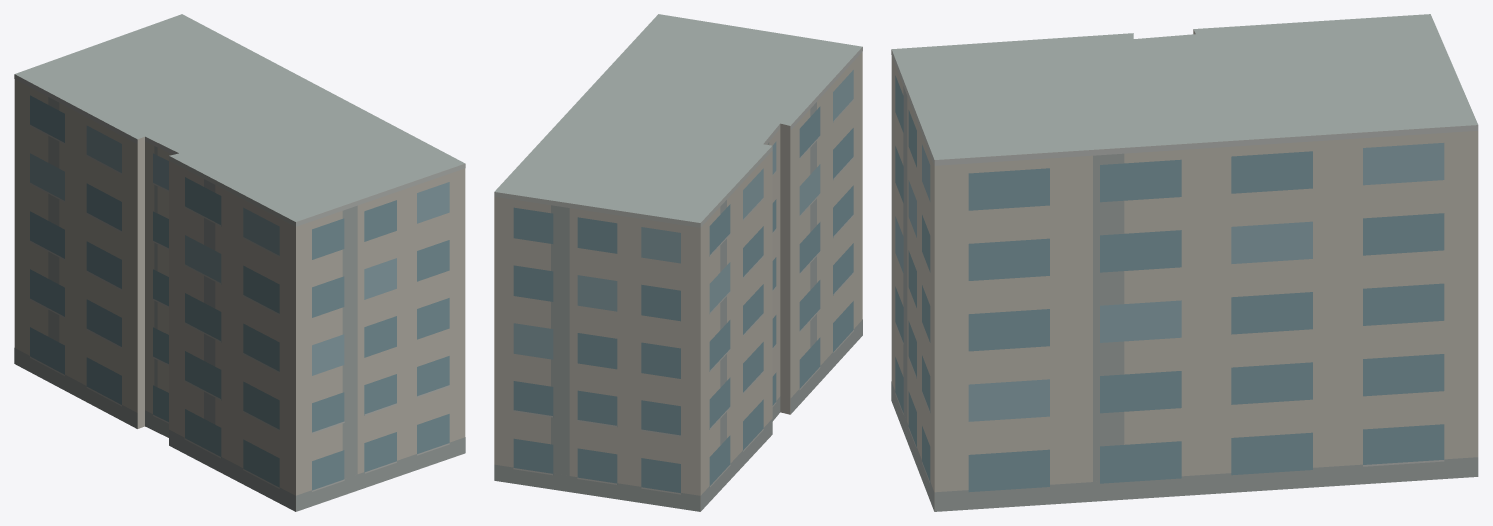
File: survey-upis-32570476.glb
The picture shows the model from 3 angles, left to right: view 1: azimuth 30°, elevation 25°; view 2: azimuth 150°, elevation 25°; view 3: azimuth 270°, elevation 25°; orthographic projection. The views are drawn at different scales.
Parts seen in each view (by area): view 1: survey-upis-32570476.tmp; view 2: survey-upis-32570476.tmp; view 3: survey-upis-32570476.tmp.
Part boxes in pixels (x1=…): survey-upis-32570476.tmp: x1=14, y1=14, x2=465, y2=511; survey-upis-32570476.tmp: x1=494, y1=14, x2=862, y2=511; survey-upis-32570476.tmp: x1=891, y1=14, x2=1478, y2=511.
Size of the model in its own units: 13.1 by 14.7 by 22.23.
